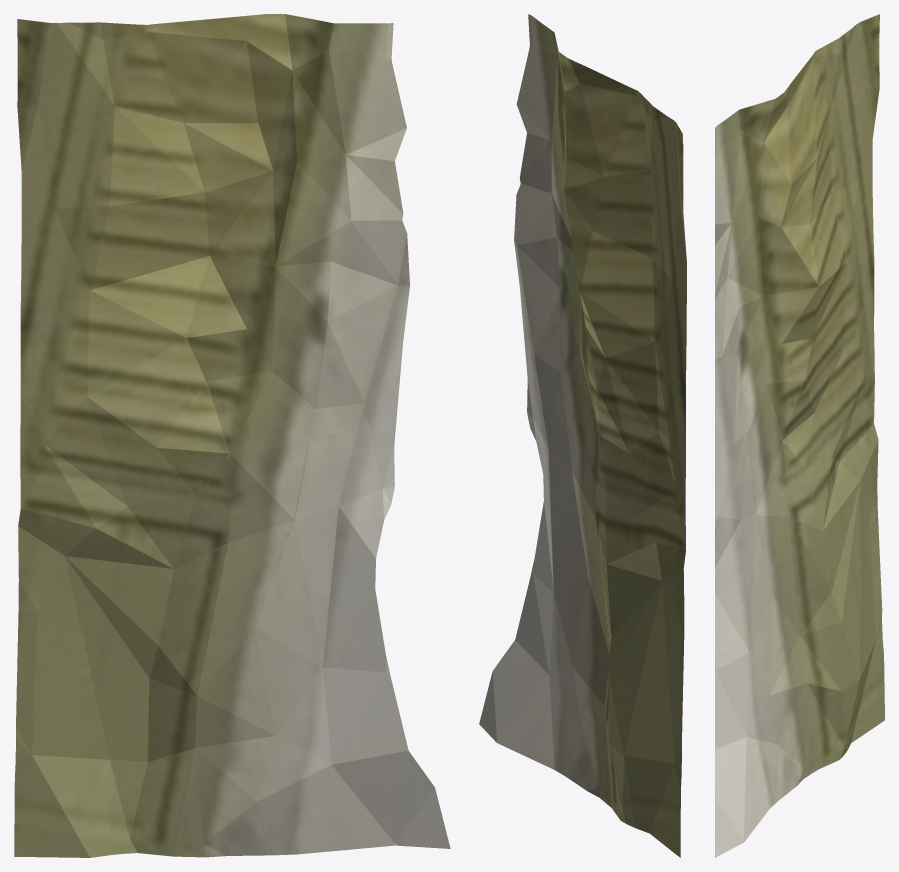
3 views of the same model, side by side, from view 1: azimuth 30°, elevation 25°; view 2: azimuth 150°, elevation 25°; view 3: azimuth 270°, elevation 25° (orthographic). The views are drawn at different scales.
Size of the model in its own units: 0.6996 by 1.67 by 0.3651.
Materials: 1 (1 with a texture image).
